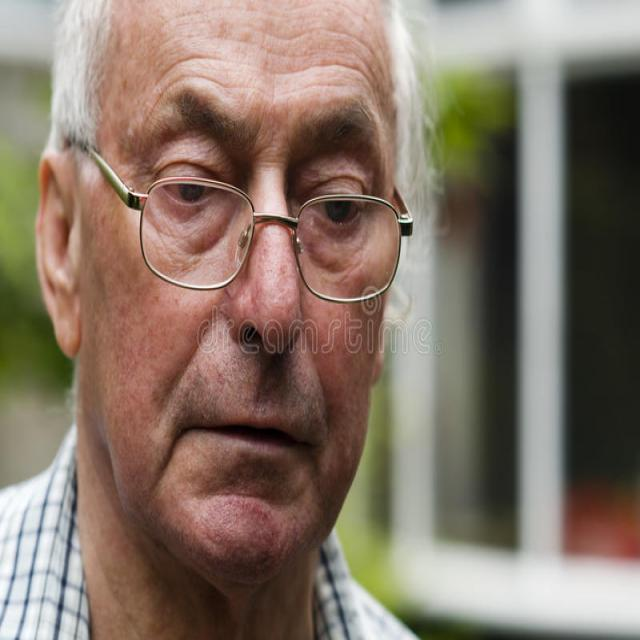Glasses: (91, 137, 415, 313)
